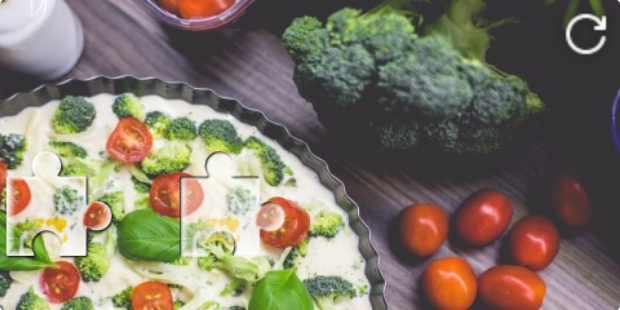target: (180, 151, 284, 256)
